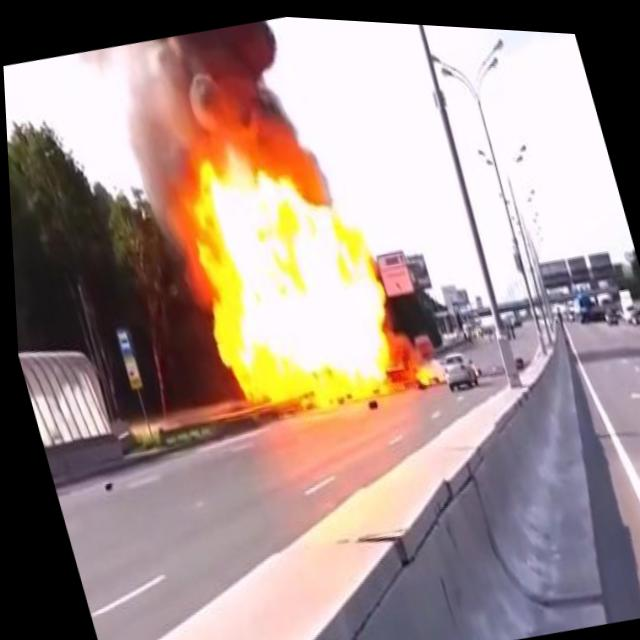fire: (152, 102, 417, 436), (404, 344, 441, 386)
